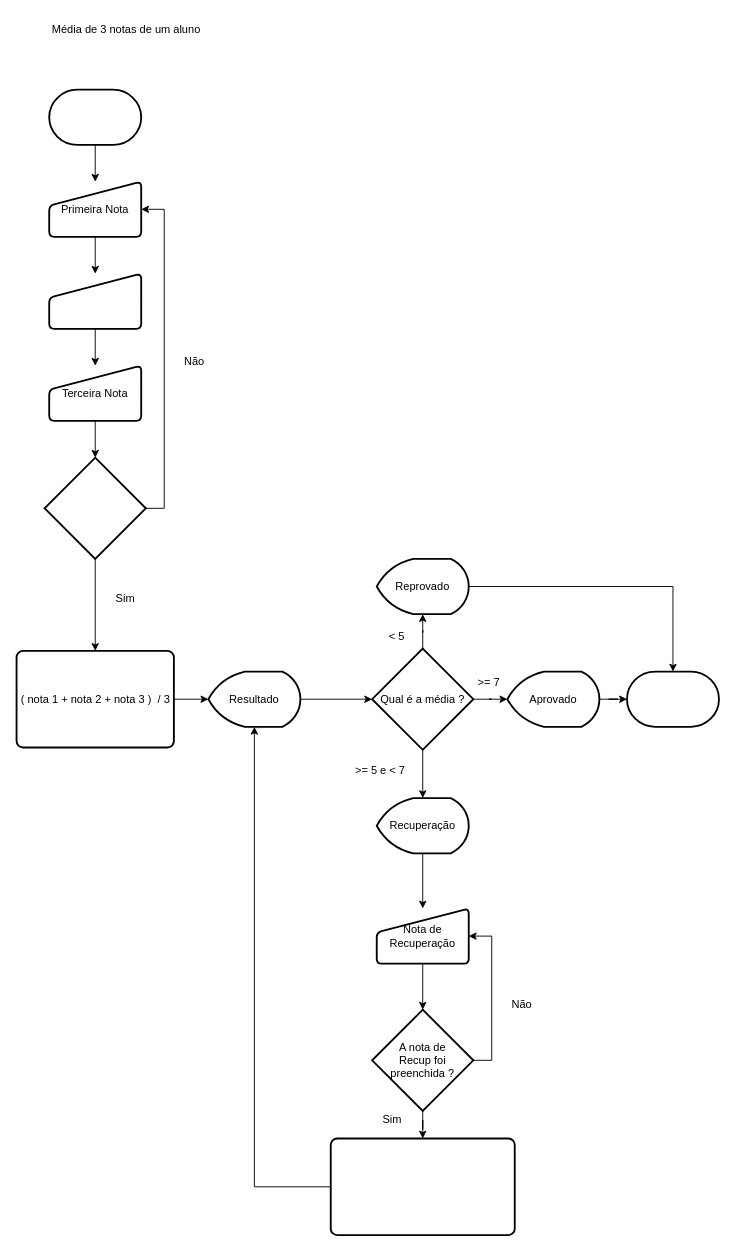
Some shapes in this 736 by 1251 pixel diagram are drawn without their labels. The shapes that lost their labels are listed below. From the top down, each one's centre as x and y in pixels, then its label:
the point at 95,116: Início
the point at 95,300: Segunda Nota
the point at 94,507: As 3 notas foram preenchidas ?
the point at 672,698: Fim
the point at 422,1186: ( nota 1 + nota 2 + nota 3 + nota Recup) / 4
